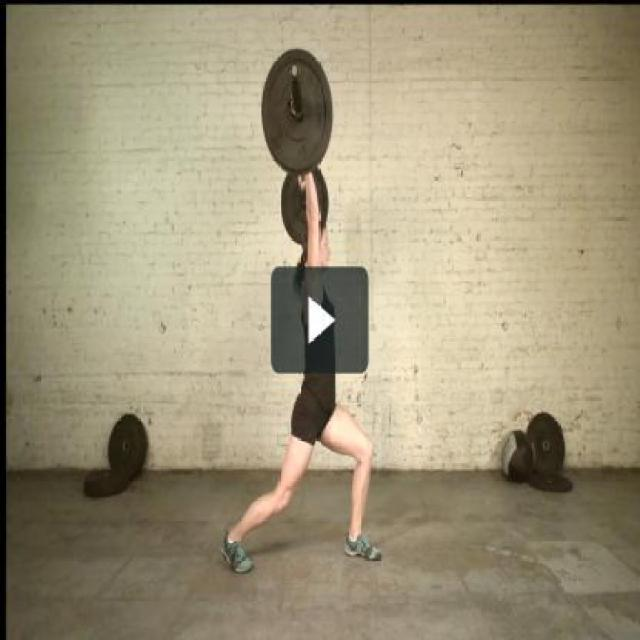Barbell: (279, 53, 315, 129)
